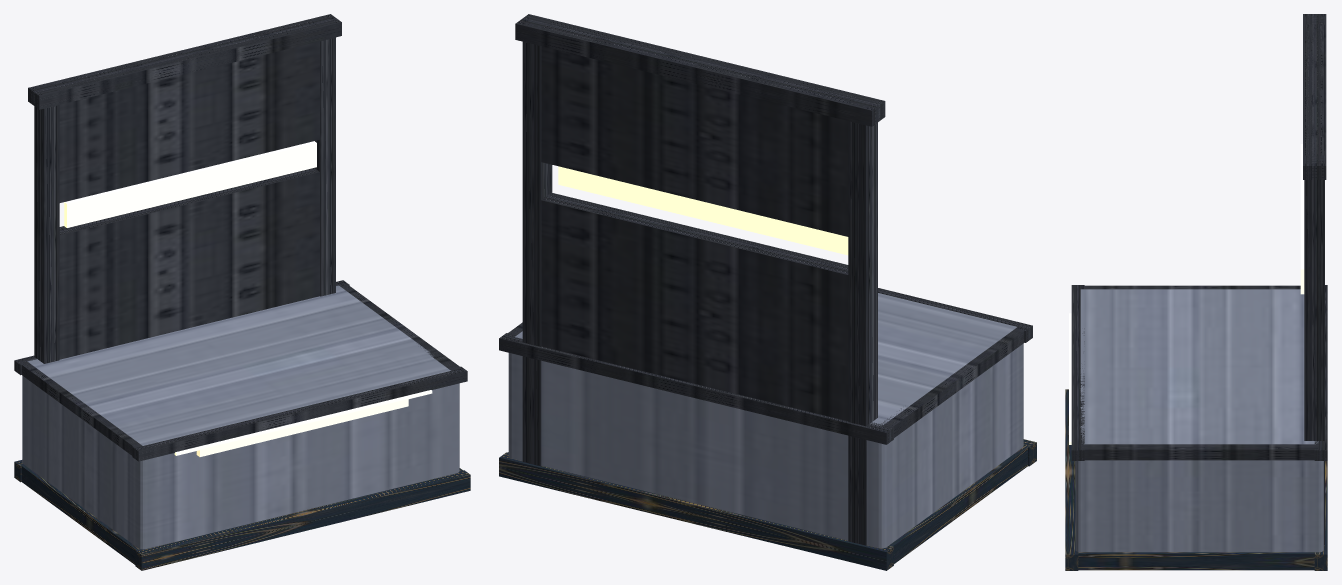
File: transit_trayreturn.glb
The picture shows the model from 3 angles, left to right: view 1: azimuth 30°, elevation 25°; view 2: azimuth 150°, elevation 25°; view 3: azimuth 270°, elevation 25°; orthographic projection. The views are drawn at different scales.
Parts seen in each view (by area): view 1: sight_shell, frame, shelltoe0, sightglow, shellrim0, shelltoes0, shellrims0, slot, shellglow, shellrims2; view 2: sight_shell, frame, shelltoe2, shellrim2, sightglow, shelltoes0, shellrims0, shellrim0; view 3: frame, sight_shell, shelltoes2, shellrims2, shellrim0, shelltoe0, shellrims0, shellrim2, sightglow, shelltoe2, shellglow.
Boxes of the visible parts, x1,y1,x2,y2 form: sight_shell: (28,14,341,363); frame: (22,285,459,549); shelltoe0: (135,470,470,570); sightglow: (64,141,316,227); shellrim0: (132,366,467,461); shelltoes0: (20,464,139,564); shellrims0: (20,362,142,455); slot: (196,399,408,456); shellglow: (174,390,432,455); shellrims2: (341,285,461,370); sight_shell: (515,14,885,545); frame: (508,293,1023,548); shelltoe2: (499,452,893,570); shellrim2: (499,333,893,444); sightglow: (558,166,848,255); shelltoes0: (889,444,1029,563); shellrims0: (880,328,1024,437); shellrim0: (878,288,1032,342); frame: (1075,289,1323,552); sight_shell: (1303,14,1326,545); shelltoes2: (1078,552,1314,570); shellrims2: (1080,444,1318,460); shellrim0: (1071,285,1084,460); shelltoe0: (1065,389,1078,570); shellrims0: (1084,285,1300,289); shellrim2: (1314,285,1327,460); sightglow: (1300,144,1304,294); shelltoe2: (1314,461,1327,570); shellglow: (1069,313,1071,444).
Size of the model in its own units: 1.51 by 1.7 by 1.02.
7 materials, 5 textured.
